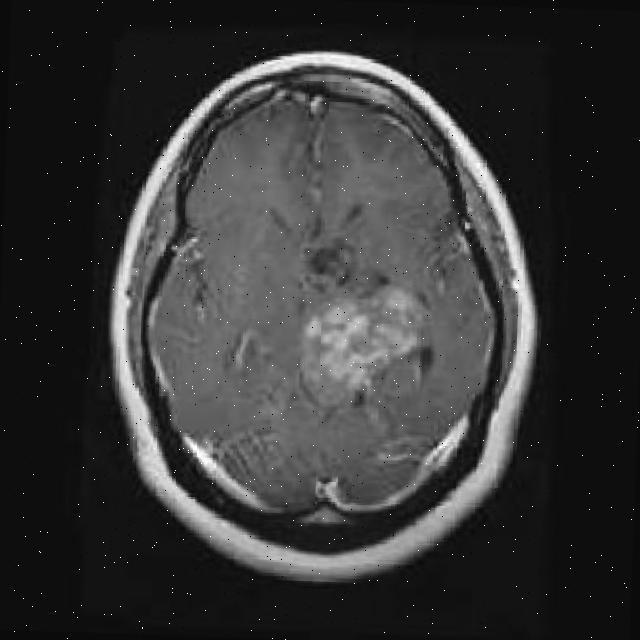MCI: (306, 280, 382, 399)
